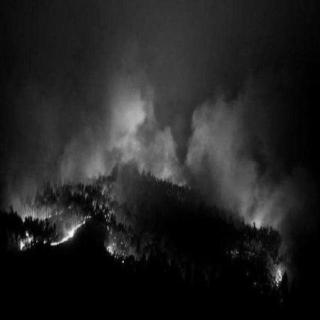Fire: (14, 197, 94, 260), (238, 220, 294, 290), (99, 212, 149, 268)
Smoke: (13, 12, 295, 208)
